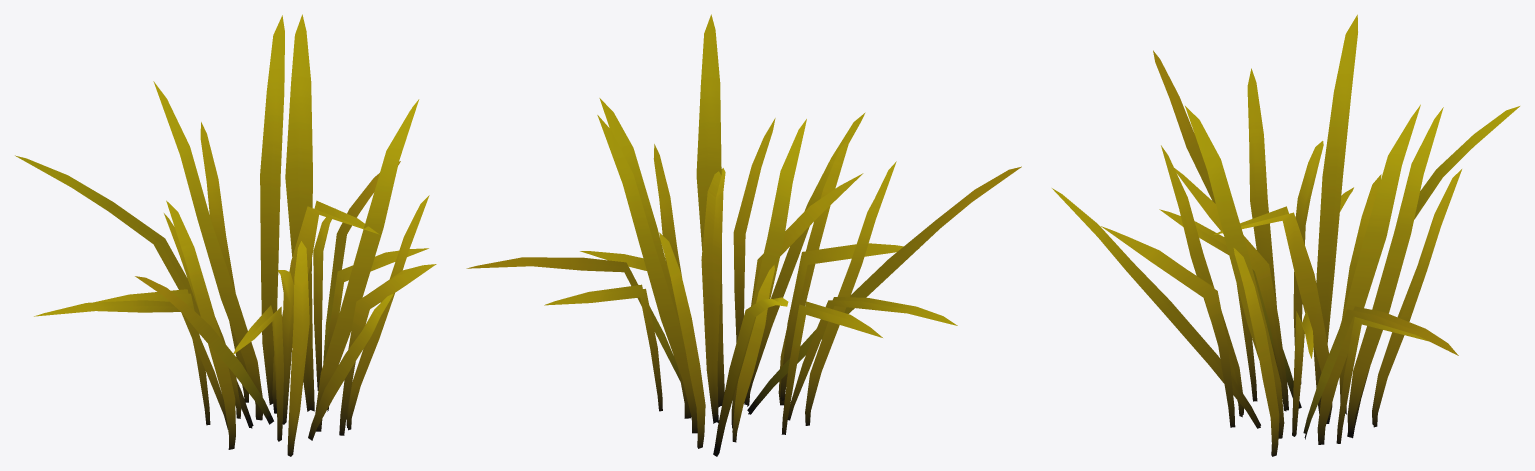
The model's file is Grass_Wispy_Short.gltf.
The picture shows the model from 3 angles, left to right: view 1: azimuth 30°, elevation 25°; view 2: azimuth 150°, elevation 25°; view 3: azimuth 270°, elevation 25°; orthographic projection. The views are drawn at different scales.
Parts seen in each view (by area): view 1: Grass_Wispy_Short; view 2: Grass_Wispy_Short; view 3: Grass_Wispy_Short.
Boxes of the visible parts, <box> form: Grass_Wispy_Short: <box>15,14,436,456</box>; Grass_Wispy_Short: <box>466,14,1021,456</box>; Grass_Wispy_Short: <box>1052,14,1519,456</box>.
Size of the model in its own units: 1.32 by 1.07 by 1.21.
1 material, 1 textured.
